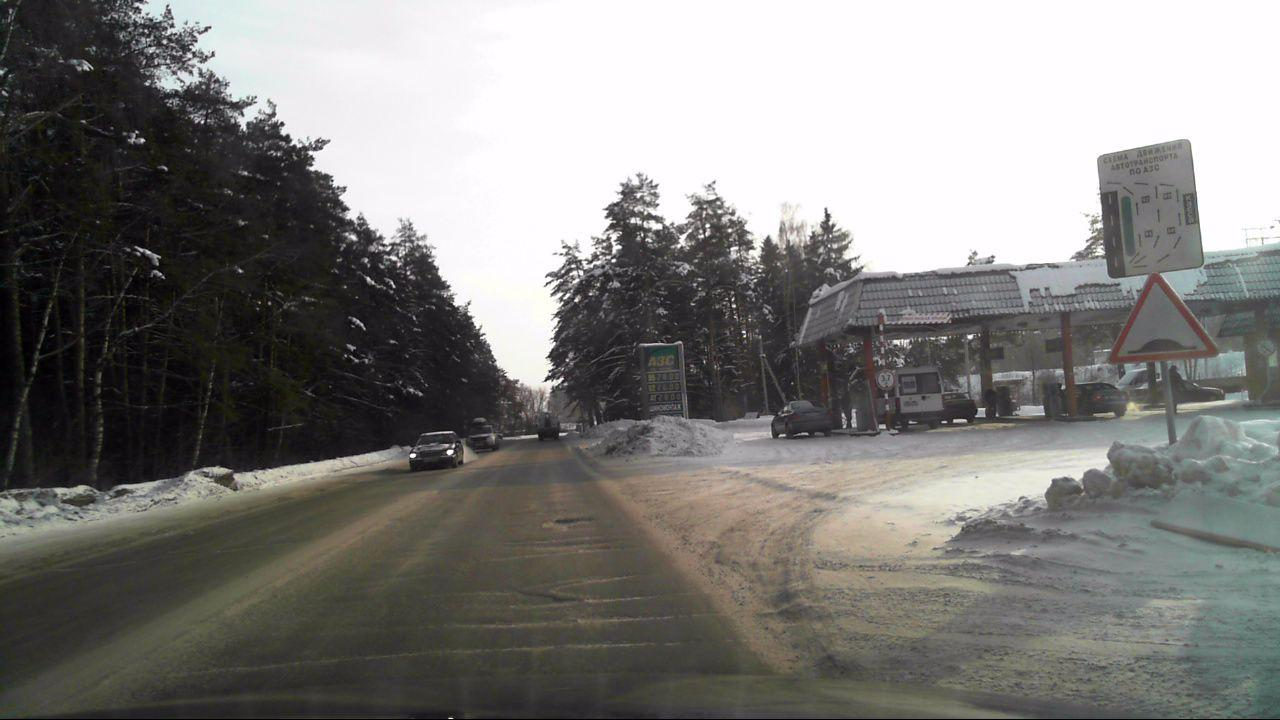1_17: (1108, 270, 1222, 364)
3_13: (876, 369, 894, 389)
